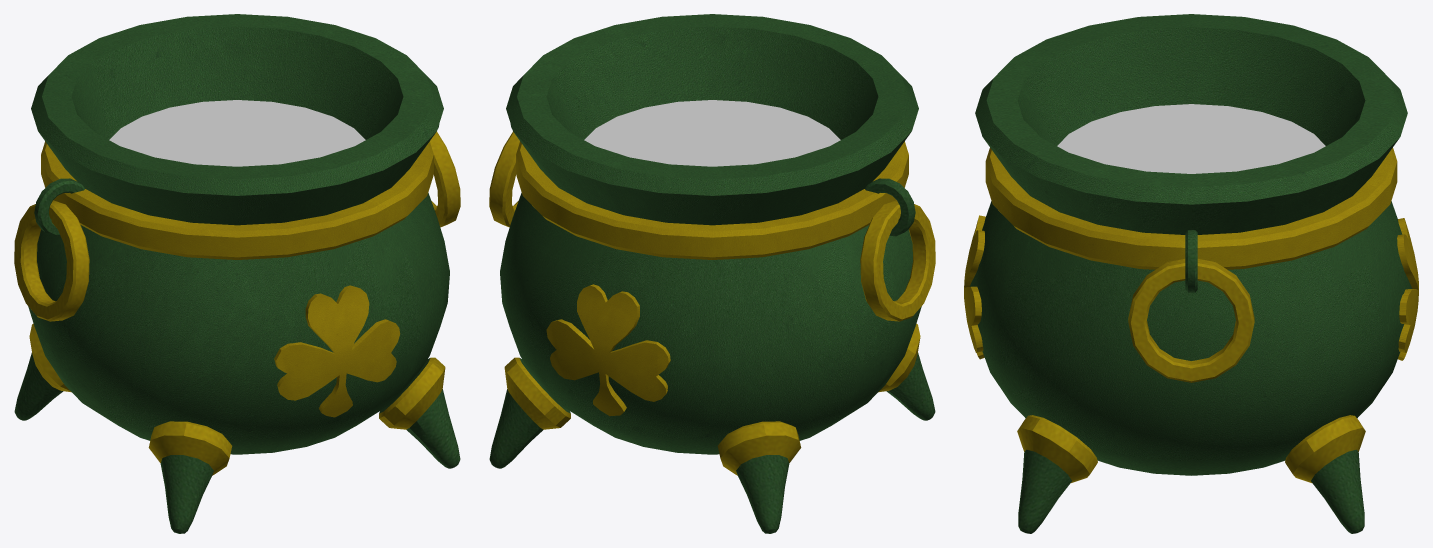
The model's file is Magical_Pot.fbx.
3 renders of one model, left to right at view 1: azimuth 30°, elevation 25°; view 2: azimuth 150°, elevation 25°; view 3: azimuth 270°, elevation 25°, orthographic. The views are drawn at different scales.
Parts seen in each view (by area): view 1: Magical_Pot; view 2: Magical_Pot; view 3: Magical_Pot.
Part boxes in pixels (x1,y1,x2,y2): Magical_Pot: [14, 14, 460, 533]; Magical_Pot: [489, 14, 935, 533]; Magical_Pot: [964, 14, 1418, 533].
Bounding box in the file's own units: 51.83 × 42.65 × 48.33.
